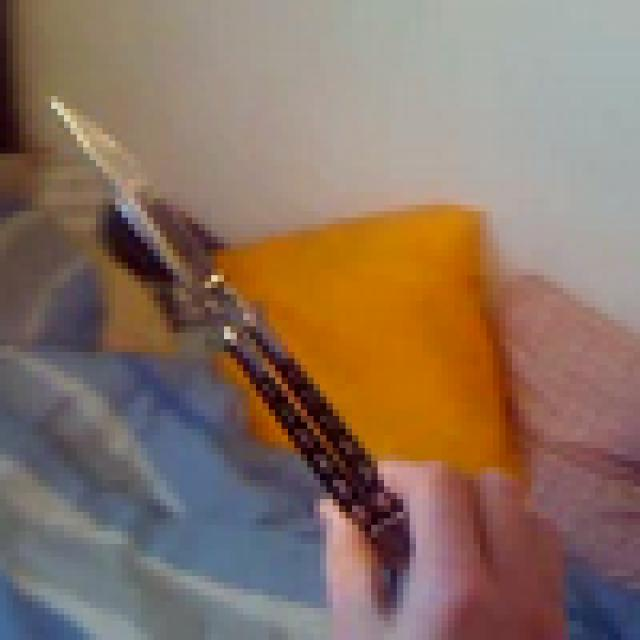Weapons: (42, 84, 424, 572)
